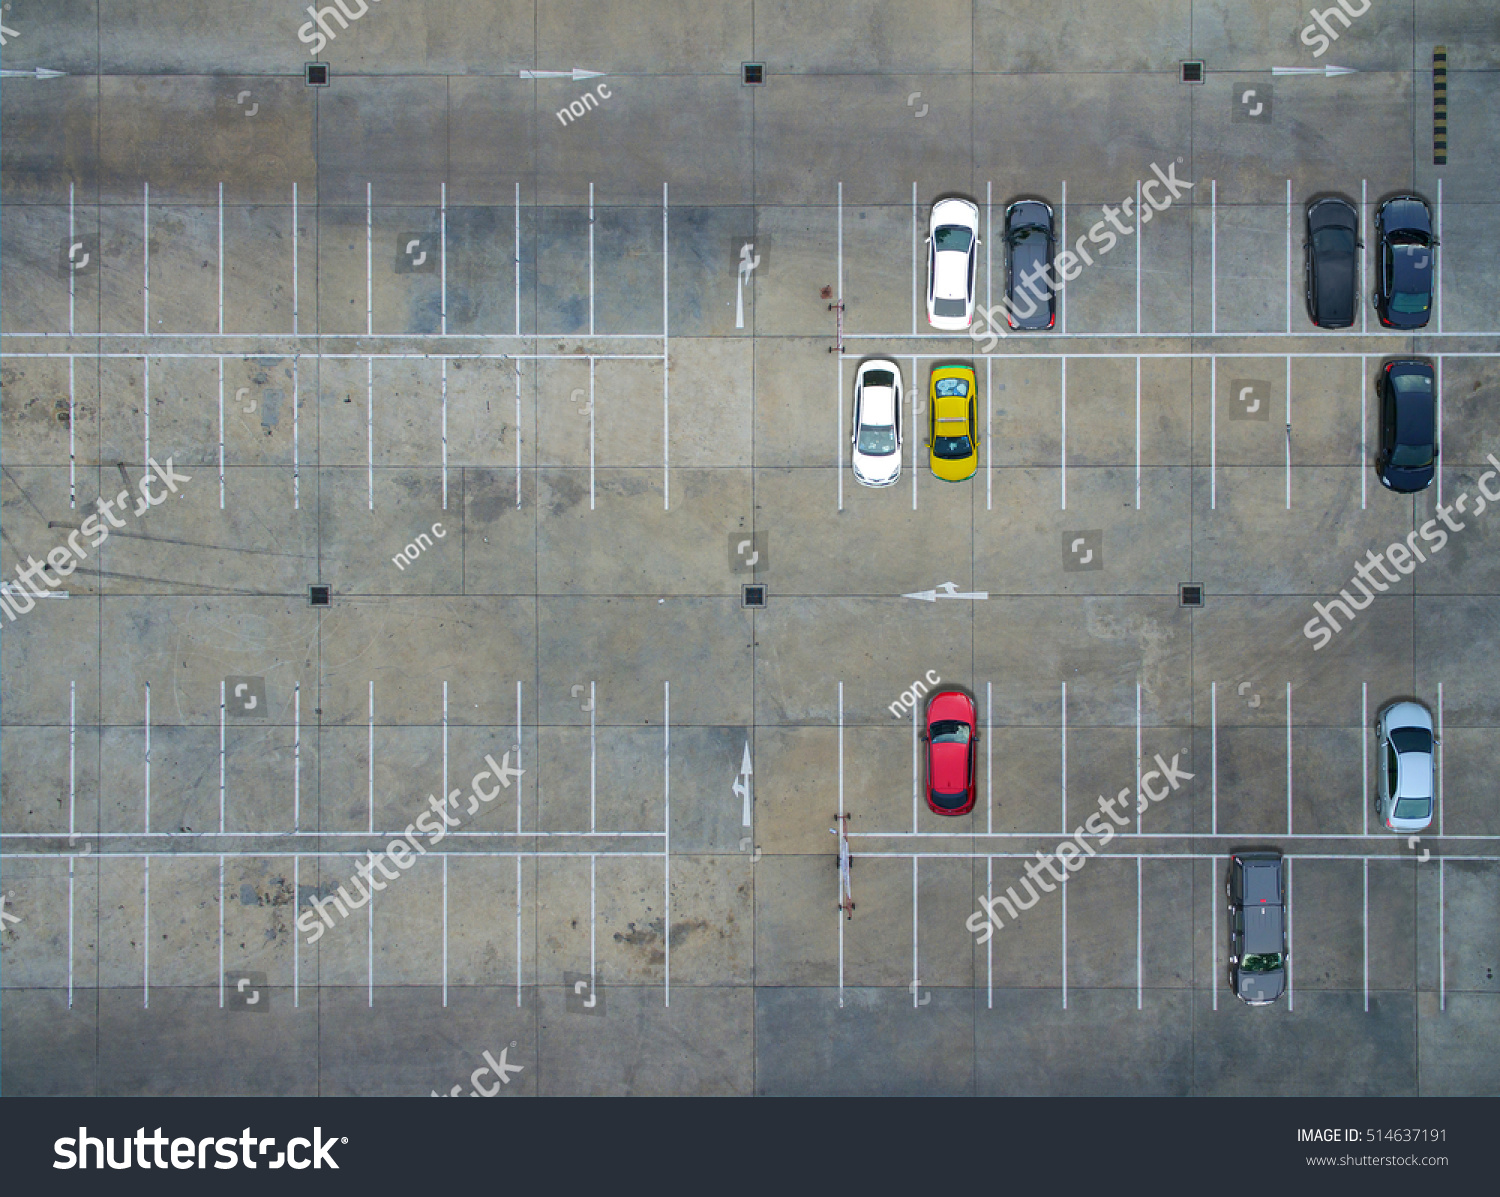Car: (1371, 694, 1439, 835), (1372, 187, 1439, 331), (919, 683, 983, 823), (920, 191, 983, 330), (844, 352, 905, 492), (920, 359, 985, 487)
LaneMark: (843, 831, 1500, 842), (840, 351, 1498, 359), (726, 730, 763, 849), (1, 853, 669, 859), (1, 352, 668, 358), (721, 242, 762, 340), (843, 333, 1500, 340), (901, 577, 996, 613), (1, 332, 669, 337), (1, 832, 666, 837), (1257, 57, 1369, 85), (662, 180, 671, 511), (515, 61, 607, 92), (849, 853, 1223, 860), (1, 61, 75, 92), (1297, 853, 1500, 864), (664, 679, 671, 1006), (1058, 679, 1070, 834), (289, 181, 302, 333), (366, 677, 377, 840), (439, 857, 450, 1013), (140, 677, 151, 832), (439, 355, 450, 511), (1436, 857, 1447, 1011), (512, 180, 523, 333), (217, 678, 227, 840), (1362, 857, 1372, 1016), (292, 678, 302, 835), (142, 180, 151, 333), (439, 180, 448, 333), (1134, 682, 1143, 834), (291, 856, 300, 1008), (514, 857, 524, 1009), (588, 857, 597, 1004), (1360, 176, 1368, 340), (1134, 177, 1142, 338), (589, 355, 597, 515), (910, 180, 919, 338), (1209, 176, 1218, 335), (68, 677, 77, 835), (589, 678, 597, 835), (441, 677, 450, 834), (217, 354, 226, 511), (1060, 180, 1069, 335), (1136, 857, 1145, 1011), (217, 855, 226, 1009), (366, 856, 375, 1009), (983, 680, 992, 832), (837, 877, 846, 1009), (70, 353, 77, 514), (1211, 857, 1218, 1017), (589, 180, 596, 338), (366, 355, 374, 513), (912, 855, 920, 1011), (1284, 177, 1291, 333), (839, 682, 846, 834), (217, 181, 225, 333), (365, 178, 373, 331), (837, 181, 845, 311), (1286, 682, 1294, 833), (912, 683, 920, 833), (1061, 854, 1068, 1014), (1362, 680, 1368, 840), (293, 354, 299, 514), (985, 178, 991, 336), (987, 856, 993, 1013), (515, 355, 522, 512), (1211, 680, 1217, 835), (68, 181, 75, 333), (68, 857, 75, 1005), (517, 678, 522, 835), (145, 353, 150, 511), (144, 855, 148, 1009)
